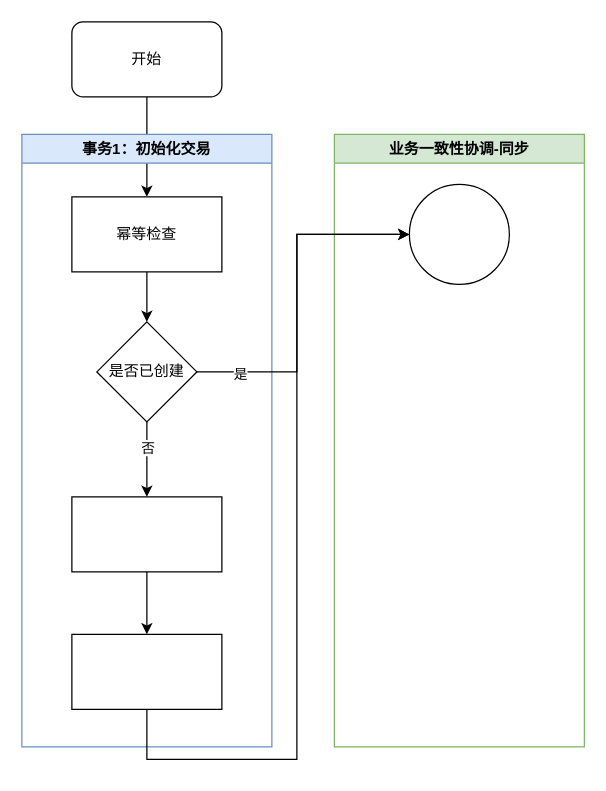
This 606x791 diagram has some shape labels left out. Each missing label, with the centre of its shape:
"初始化交易主单" goes at (146,534).
"初始化交易子单" goes at (146,671).
"对主单发起一致性协调" goes at (458,233).
